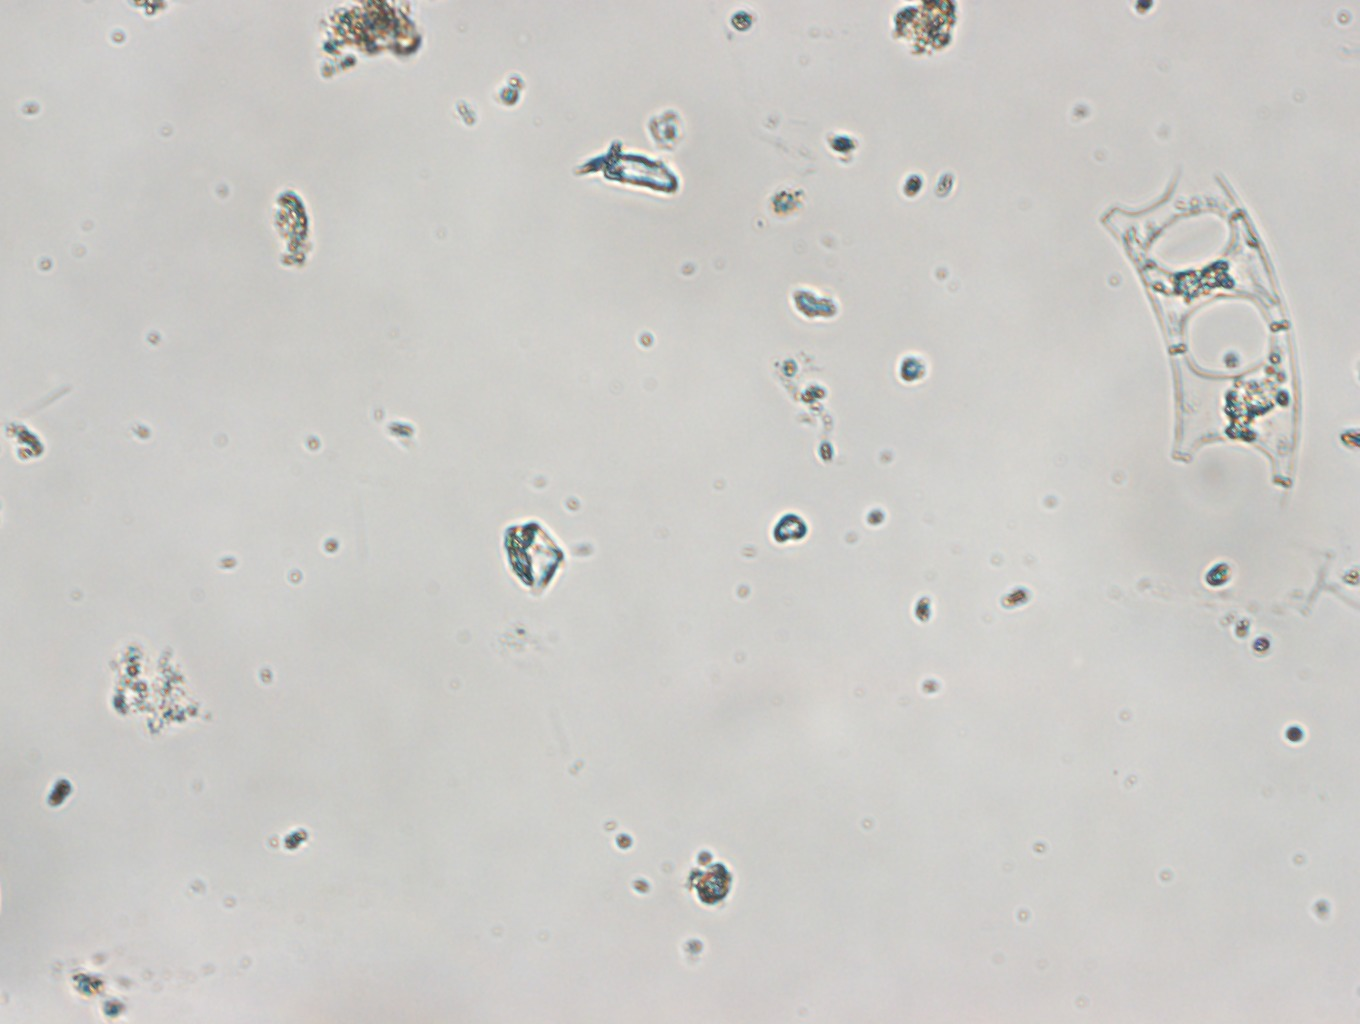eucampia: (1097, 153, 1321, 490)
